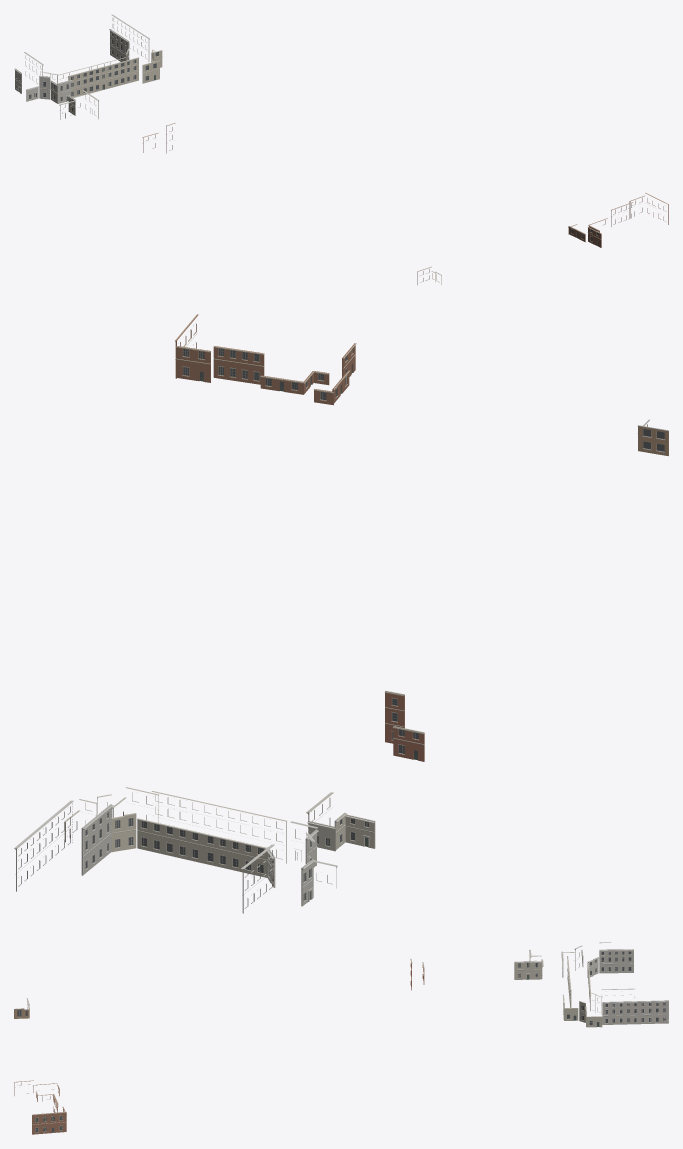
3 views of the same model, one above another, from view 1: azimuth 30°, elevation 25°; view 2: azimuth 150°, elevation 25°; view 3: azimuth 270°, elevation 25° (orthographic). The views are drawn at different scales.
Visible parts, largest first — view 1: f:way/139285981, f:way/98523434, f:way/139285980, f:way/206376728; view 2: f:way/139285981, f:way/206376728, f:way/139285980, f:way/139285983, f:way/98523434, f:way/26194150; view 3: f:way/139285980, f:way/98523434, f:way/206376728, f:way/139285981, f:way/139285983.
Part boxes in pixels (x1,y1,x2,y2): f:way/139285981: [57, 49, 162, 97]; f:way/98523434: [14, 52, 71, 103]; f:way/139285980: [109, 14, 149, 61]; f:way/206376728: [568, 192, 668, 247]; f:way/139285981: [64, 787, 286, 877]; f:way/206376728: [175, 314, 356, 405]; f:way/139285980: [14, 800, 113, 891]; f:way/139285983: [306, 792, 375, 851]; f:way/98523434: [241, 821, 337, 913]; f:way/26194150: [385, 690, 424, 761]; f:way/139285980: [601, 988, 668, 1024]; f:way/98523434: [561, 942, 633, 977]; f:way/206376728: [14, 1080, 66, 1134]; f:way/139285981: [563, 956, 602, 1027]; f:way/139285983: [514, 949, 543, 979].
Bounding box in the file's own units: 162 × 13.55 × 264.
